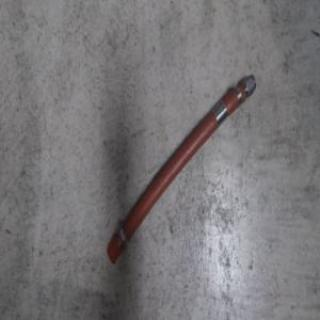Hosetrack_idkeyframe: (105, 71, 257, 267)
